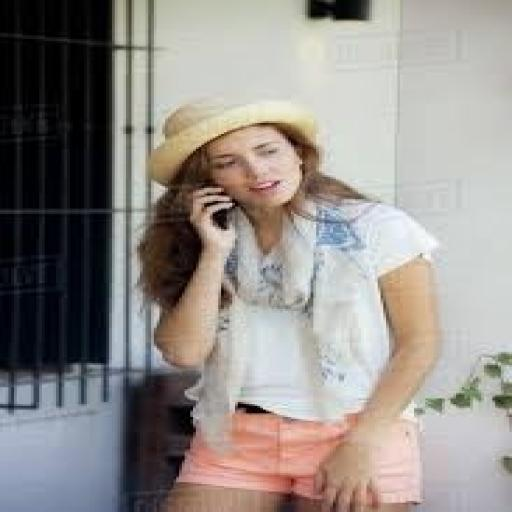calling: (131, 91, 445, 510)
